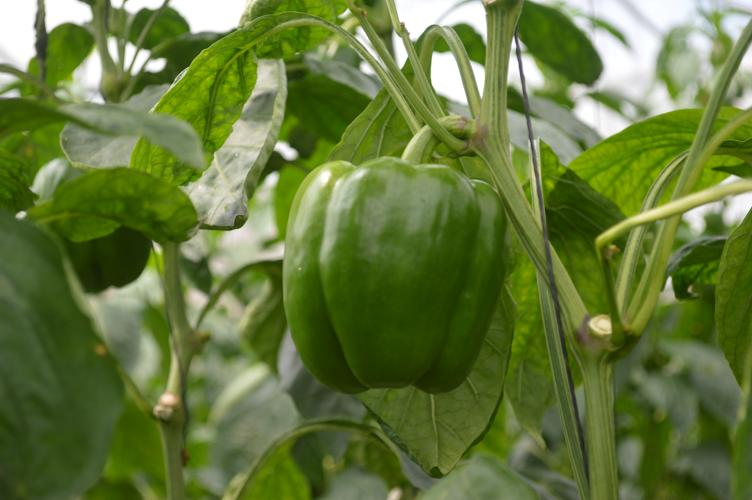BellPepper: (280, 161, 506, 392)
